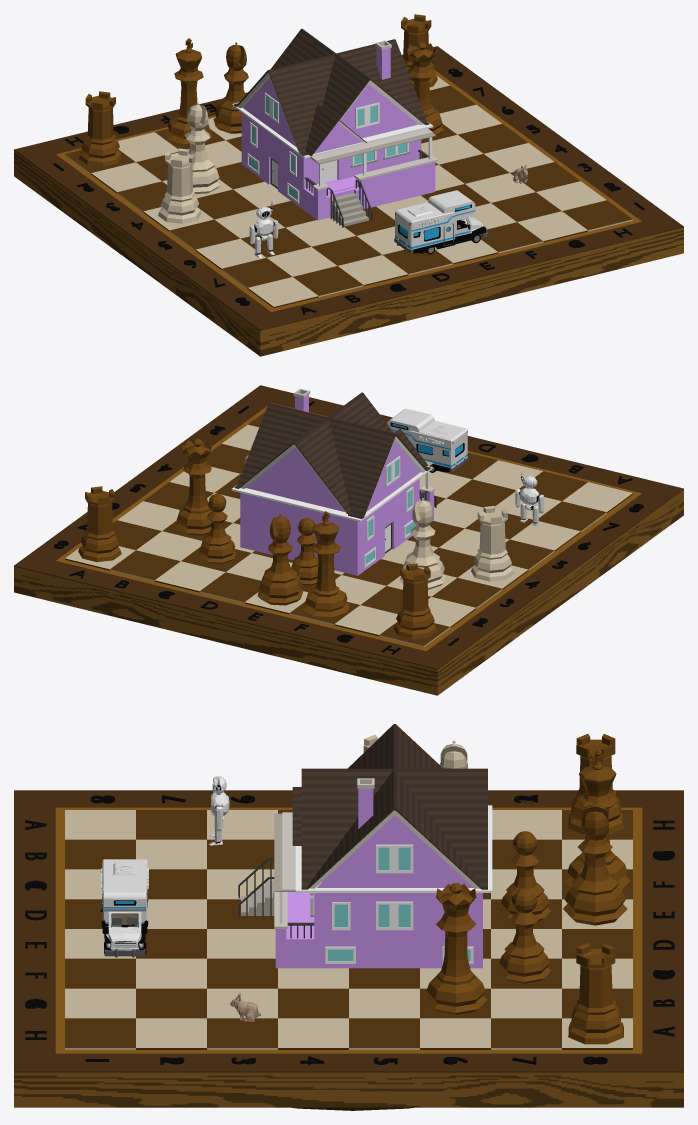
3 renders of one model, top to bottom at view 1: azimuth 30°, elevation 25°; view 2: azimuth 150°, elevation 25°; view 3: azimuth 270°, elevation 25°, orthographic. The views are drawn at different scales.
Visible parts, largest first — view 1: Cube.002, Cube.391, VEHICLES_CAMPER, OBJRANDOM_PLATZEEBOT; view 2: Cube.002, Cube.391, VEHICLES_CAMPER, OBJRANDOM_PLATZEEBOT; view 3: Cube.002, Cube.391, VEHICLES_CAMPER, OBJRANDOM_PLATZEEBOT.
Part boxes in pixels (left/top/right/bottom): Cube.002: left=14, top=14, right=683, bottom=356; Cube.391: left=232, top=28, right=438, bottom=227; VEHICLES_CAMPER: left=394, top=190, right=488, bottom=254; OBJRANDOM_PLATZEEBOT: left=249, top=201, right=278, bottom=258; Cube.002: left=14, top=385, right=683, bottom=695; Cube.391: left=231, top=388, right=436, bottom=575; VEHICLES_CAMPER: left=387, top=408, right=468, bottom=472; OBJRANDOM_PLATZEEBOT: left=515, top=470, right=543, bottom=525; Cube.002: left=14, top=734, right=683, bottom=1107; Cube.391: left=238, top=724, right=492, bottom=968; VEHICLES_CAMPER: left=100, top=859, right=148, bottom=957; OBJRANDOM_PLATZEEBOT: left=209, top=776, right=229, bottom=845.
Size of the model in its own units: 3981 by 1551 by 4012.
40 materials, 2 textured.
